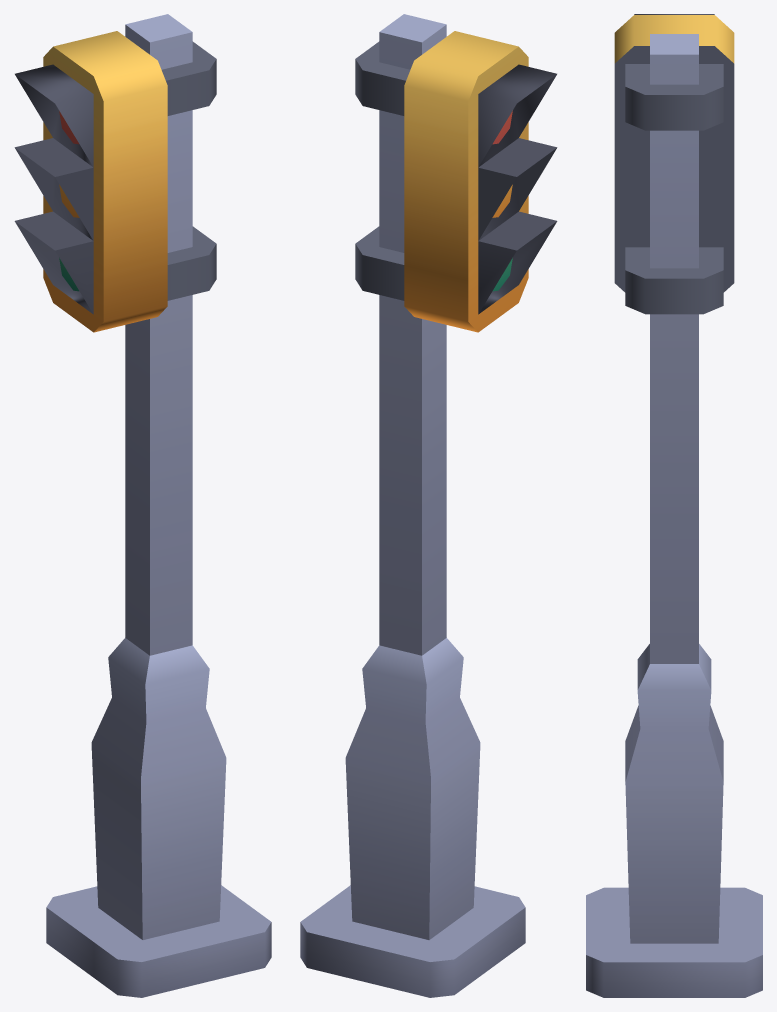
3 renders of one model, left to right at view 1: azimuth 30°, elevation 25°; view 2: azimuth 150°, elevation 25°; view 3: azimuth 270°, elevation 25°, orthographic.
Visible parts, largest first — view 1: traffic-light; view 2: traffic-light; view 3: traffic-light.
Part boxes in pixels (bbox=[...]): traffic-light: bbox=[14, 14, 271, 997]; traffic-light: bbox=[300, 14, 557, 997]; traffic-light: bbox=[586, 14, 762, 997].
Bounding box in the file's own units: 1.26 × 5.5 × 0.9612.
Materials: 1 (1 with a texture image).
